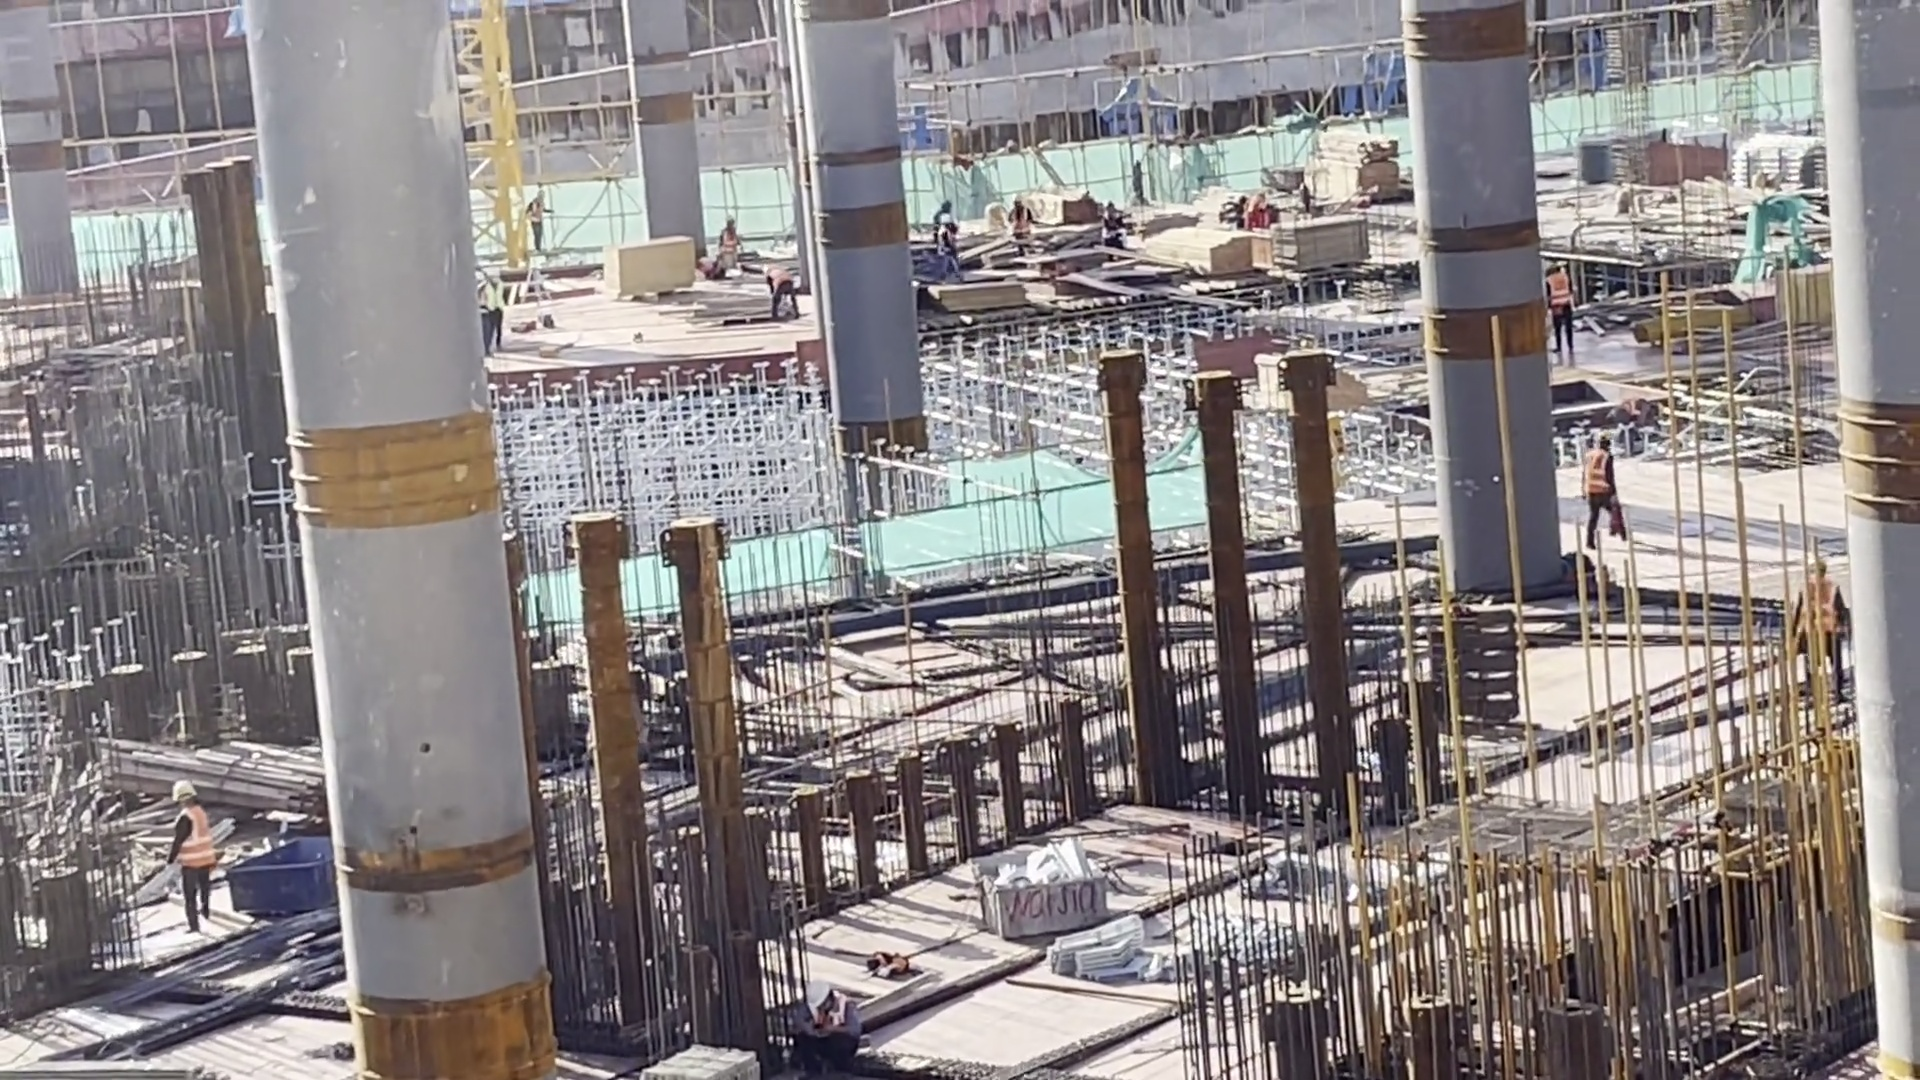helmet: (796, 974, 842, 1012), (164, 779, 198, 807), (1586, 433, 1622, 455), (1539, 239, 1560, 272), (718, 207, 745, 223)
hopper: (975, 837, 1122, 943), (223, 815, 360, 928)
person: (767, 959, 881, 1074), (149, 779, 232, 934), (1533, 245, 1595, 358), (1797, 555, 1846, 685), (1208, 186, 1309, 245), (1586, 434, 1633, 545), (696, 193, 753, 282), (758, 252, 812, 326), (468, 259, 512, 348), (525, 178, 554, 272), (922, 209, 963, 260), (1006, 195, 1037, 256), (1130, 153, 1148, 208)
vest: (175, 807, 220, 874), (1794, 575, 1845, 630), (1544, 263, 1574, 313), (1583, 446, 1605, 497), (478, 281, 508, 311), (719, 220, 745, 252)
